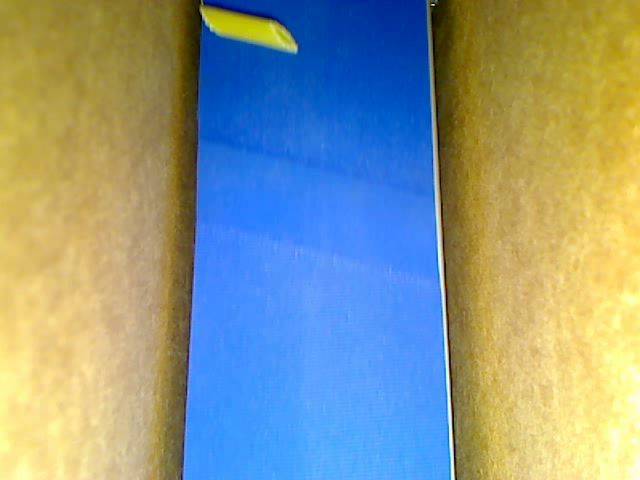penne: (198, 4, 298, 53)
